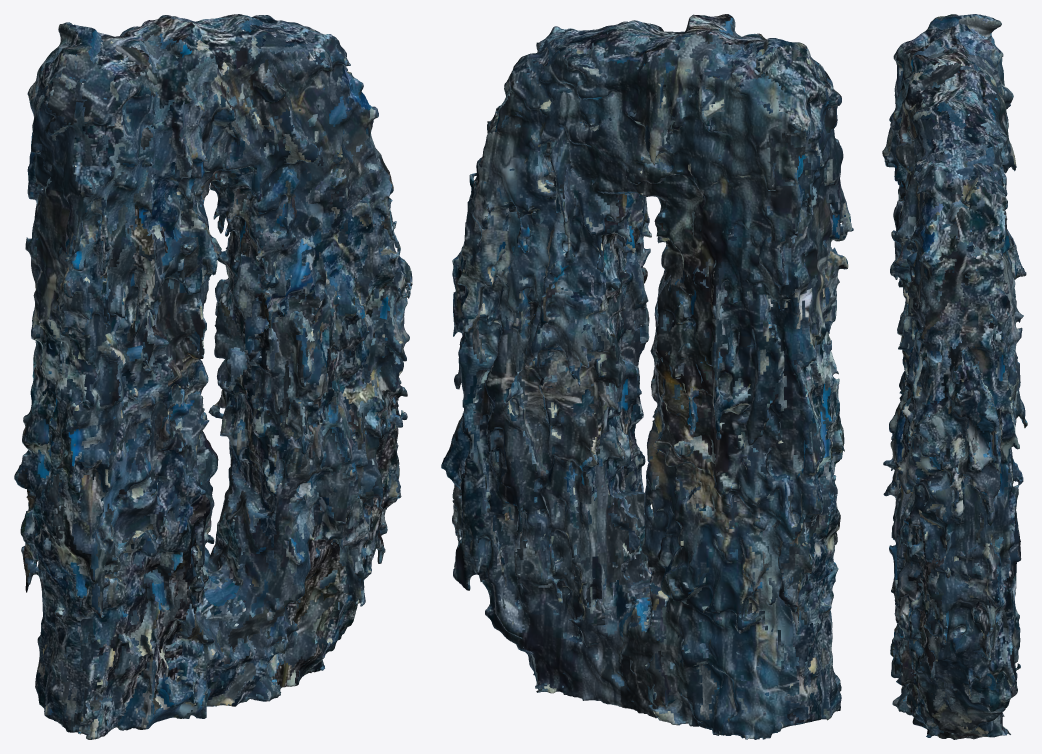
File: BLENDER_TEST_UV_COMPRESSED.glb
The picture shows the model from 3 angles, left to right: view 1: azimuth 30°, elevation 25°; view 2: azimuth 150°, elevation 25°; view 3: azimuth 270°, elevation 25°; orthographic projection. The views are drawn at different scales.
Parts seen in each view (by area): view 1: Mesh_0_002; view 2: Mesh_0_002; view 3: Mesh_0_002.
Part boxes in pixels (x1,y1,x2,y2): Mesh_0_002: (14,14,412,739); Mesh_0_002: (441,14,853,739); Mesh_0_002: (882,14,1027,739).
Bounding box in the file's own units: 2.27 × 3.97 × 0.8339.
1 material, 1 textured.
